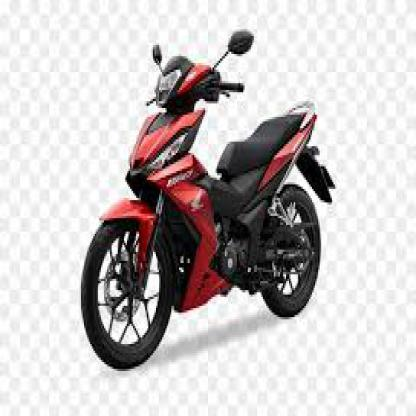Motorcycle: (67, 20, 337, 370)
